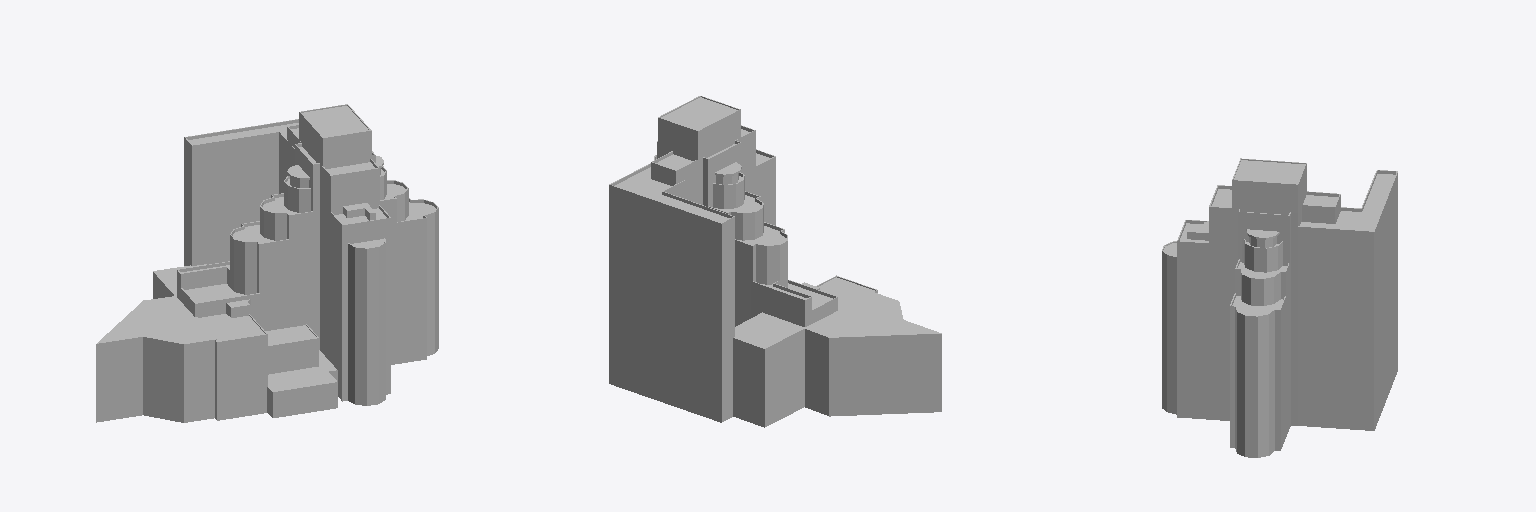
File: hospital_7.obj
3 views of the same model, side by side, from view 1: azimuth 30°, elevation 25°; view 2: azimuth 150°, elevation 25°; view 3: azimuth 270°, elevation 25° (orthographic).
Visible parts, largest first — view 1: object_1; view 2: object_1; view 3: object_1.
Boxes of the visible parts, x1=… form: object_1: x1=96, y1=104, x2=438, y2=422; object_1: x1=609, y1=96, x2=941, y2=427; object_1: x1=1162, y1=158, x2=1397, y2=457.
Size of the model in its own units: 334 by 230 by 204.